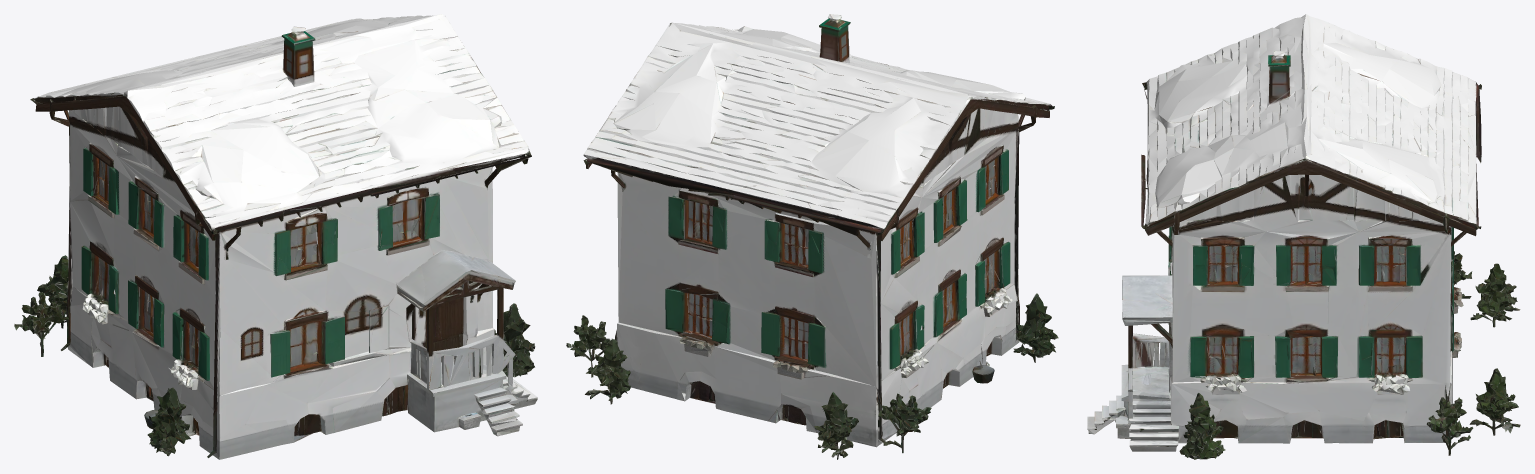
Rendered from chalet_stone.glb.
3 views of the same model, side by side, from view 1: azimuth 30°, elevation 25°; view 2: azimuth 150°, elevation 25°; view 3: azimuth 270°, elevation 25° (orthographic). The views are drawn at different scales.
Bounding box in the file's own units: 1.78 × 1.58 × 1.89.
1 material, 1 textured.
